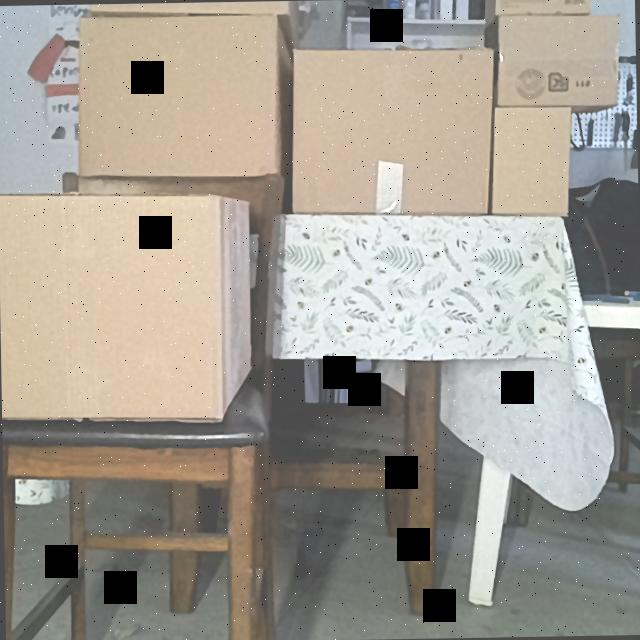box: (0, 194, 222, 419), (291, 44, 492, 214), (78, 12, 280, 179), (496, 14, 620, 108), (488, 106, 572, 217), (88, 0, 292, 17), (494, 0, 585, 14)
